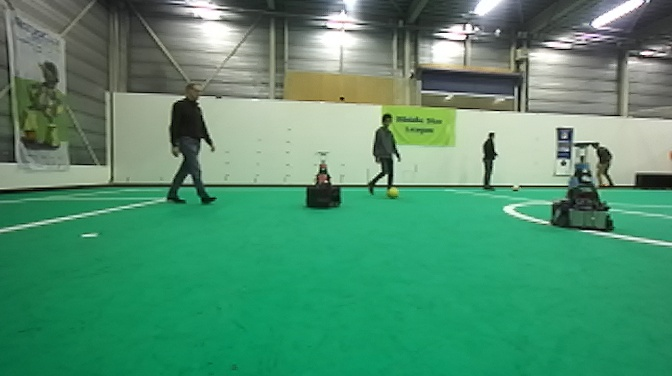ball: (383, 184, 401, 202), (511, 182, 521, 194)
human: (165, 82, 218, 205), (365, 113, 404, 196), (589, 137, 621, 189), (479, 129, 502, 193)
robot: (549, 139, 616, 233), (304, 148, 343, 212)
